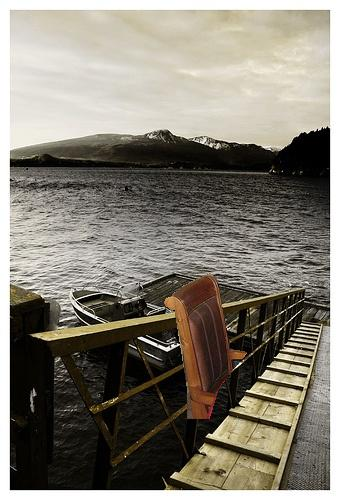tampered: (165, 274, 247, 419)
